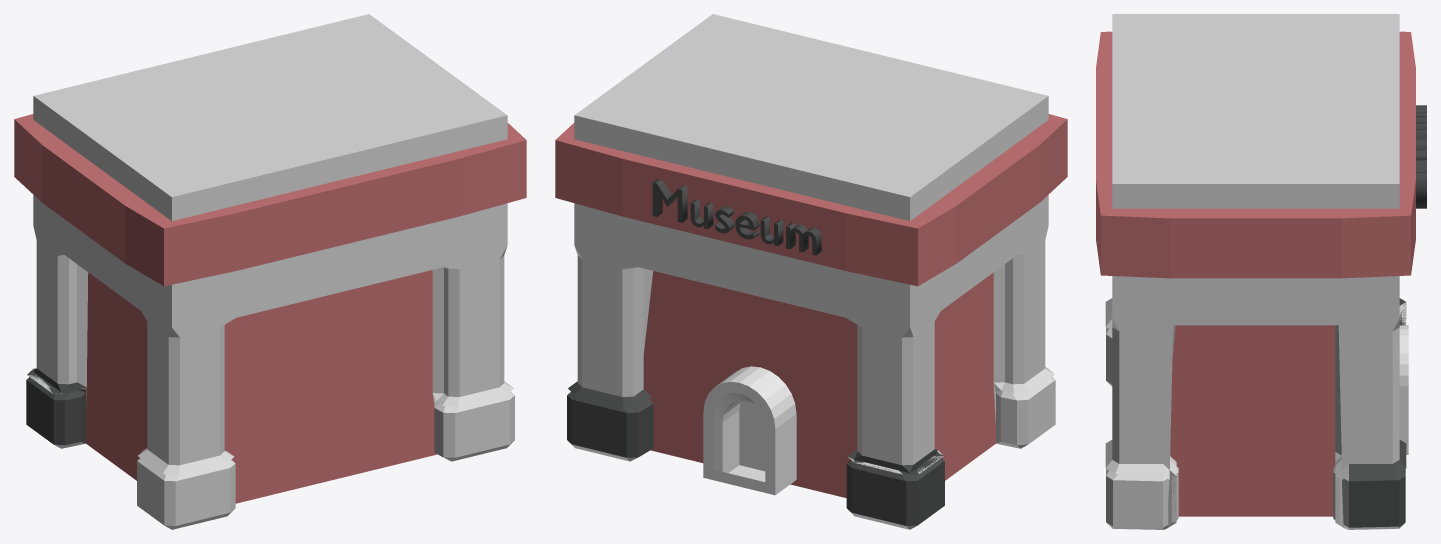
Rendered from Museum.fbx.
3 renders of one model, left to right at view 1: azimuth 30°, elevation 25°; view 2: azimuth 150°, elevation 25°; view 3: azimuth 270°, elevation 25°, orthographic. The views are drawn at different scales.
Visible parts, largest first — view 1: Cube; view 2: Cube, Cylinder.004, Text; view 3: Cube, Cylinder.004, Text.
Part boxes in pixels (box(x1,y1,x2,y2)): Cube: box(14, 14, 526, 529); Cube: box(555, 14, 1067, 529); Cylinder.004: box(703, 366, 796, 495); Text: box(652, 179, 821, 255); Cube: box(1096, 14, 1415, 529); Cylinder.004: box(1399, 325, 1408, 454); Text: box(1416, 105, 1426, 208).
Size of the model in its own units: 1559 by 1326 by 1152.
